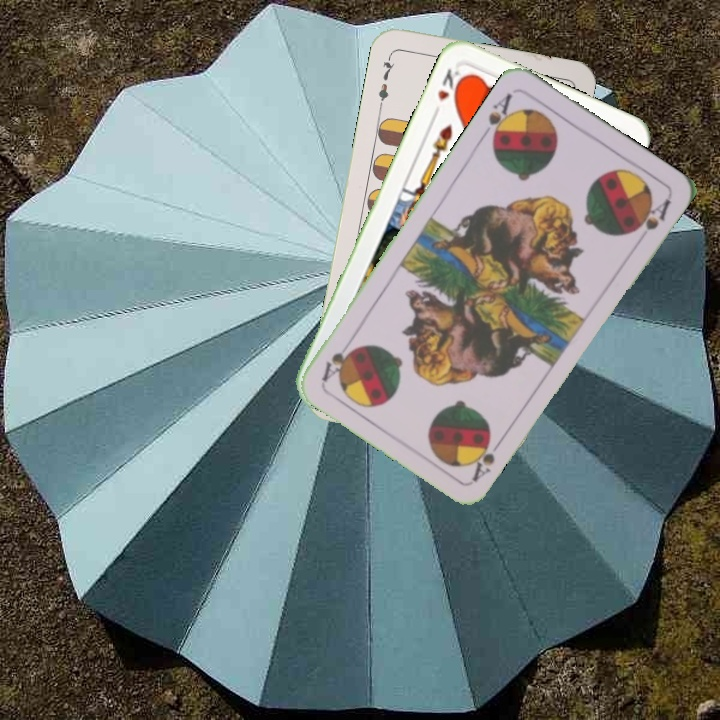E7: (374, 51, 398, 110)
HK: (429, 64, 467, 119)
SA: (478, 89, 519, 146), (468, 432, 507, 484)
